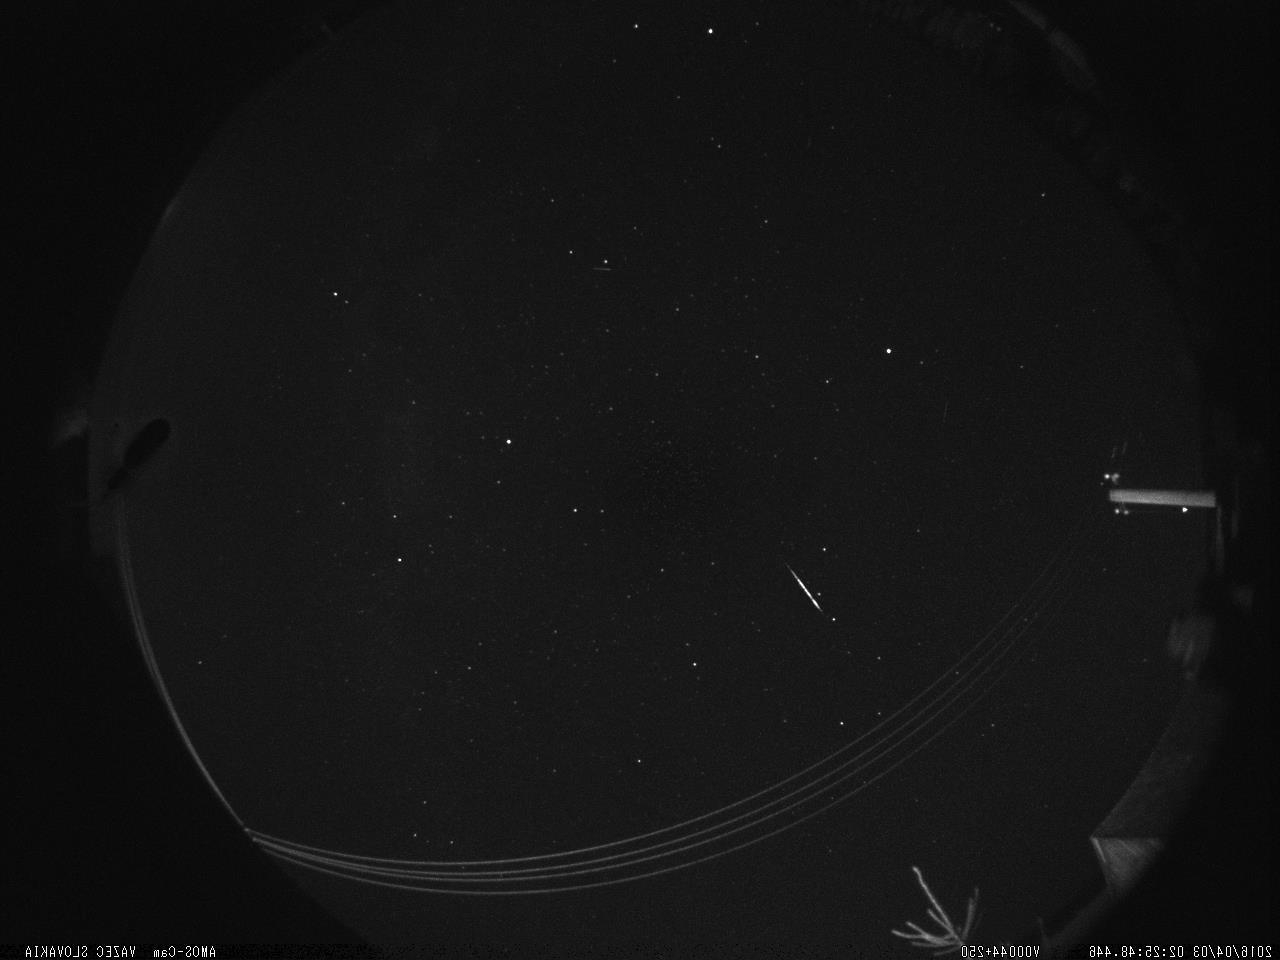meteor: (776, 555, 829, 617)
